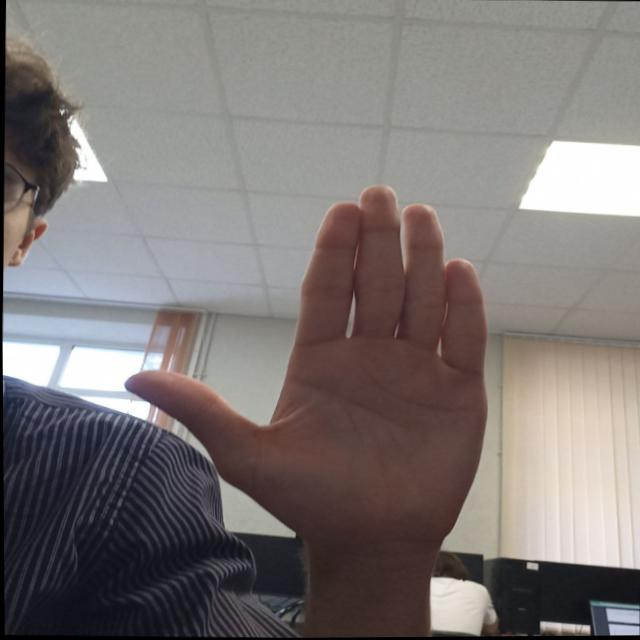v: (124, 170, 508, 554)
